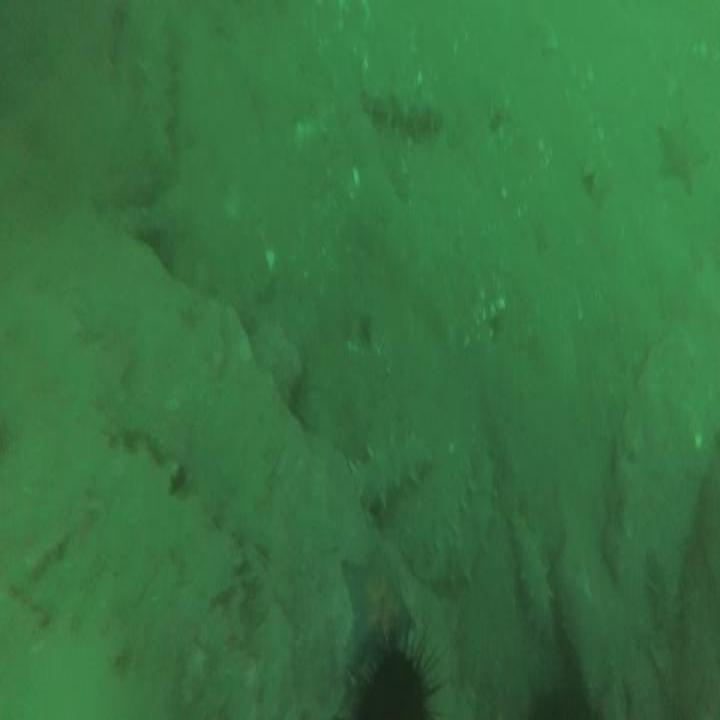echinus: (334, 613, 450, 720)
holothurian: (338, 419, 442, 505), (505, 499, 559, 649), (645, 539, 693, 693), (133, 16, 179, 169), (358, 75, 447, 144)
starfish: (339, 533, 420, 663), (654, 107, 713, 199)
